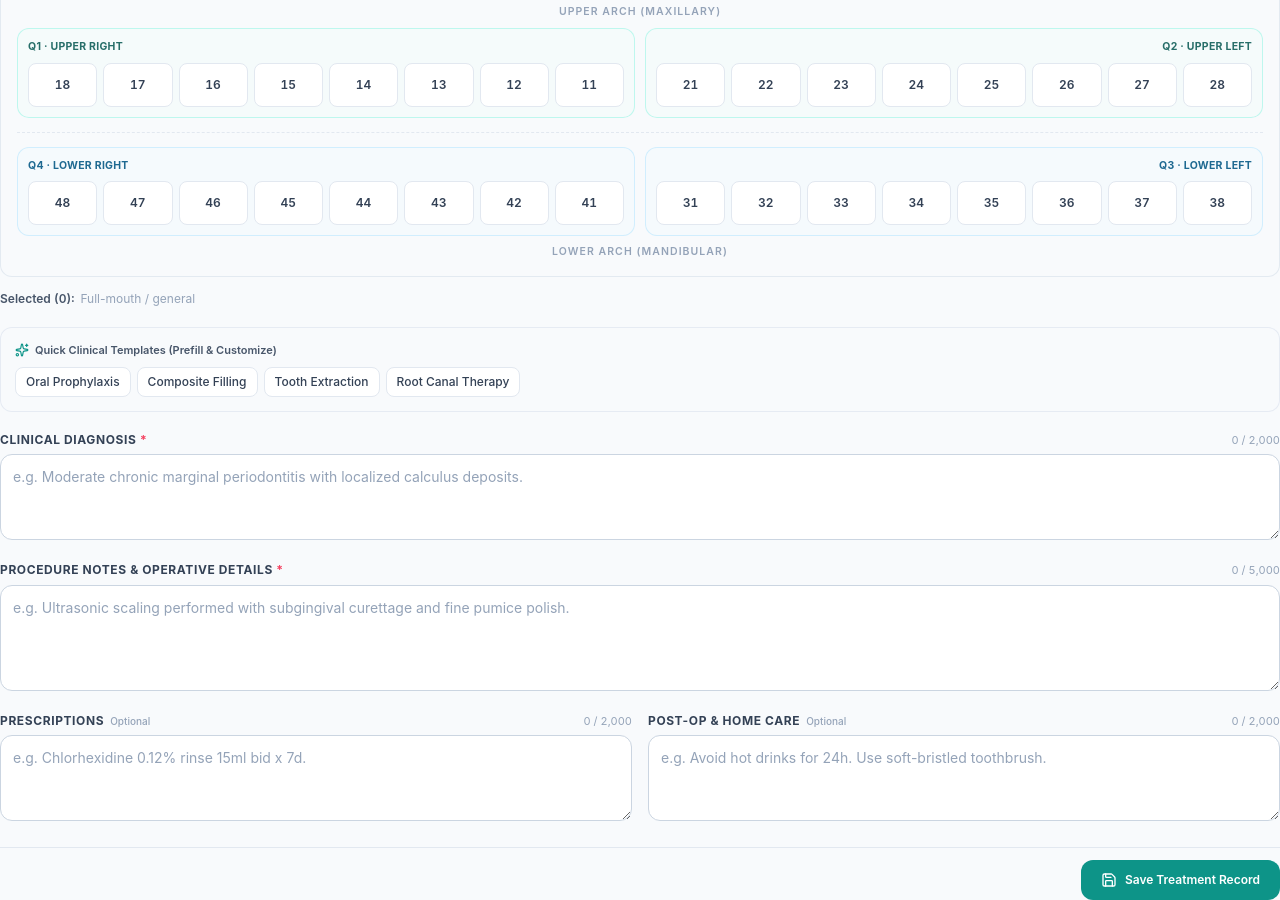
Test case: TreatmentRecordEditor Component › validates required fields before submitting
(page scrolled)
Click the button "Save Treatment Record" at (1180, 880), box [1081,860,1279,899]
(page scrolled)
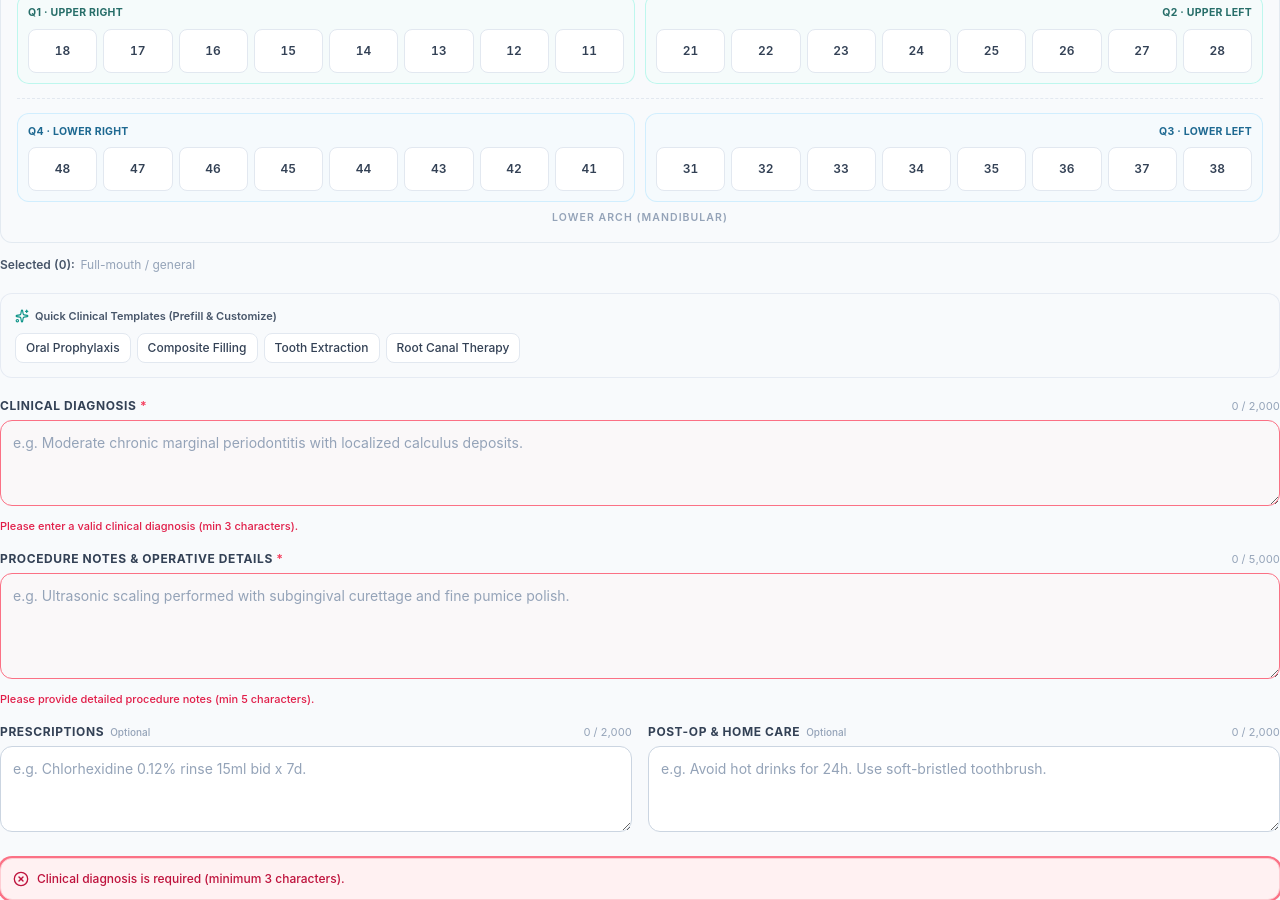
Now the text "Clinical diagnosis is required (minimum 3 characters)." is shown, box [37,871,345,887]
